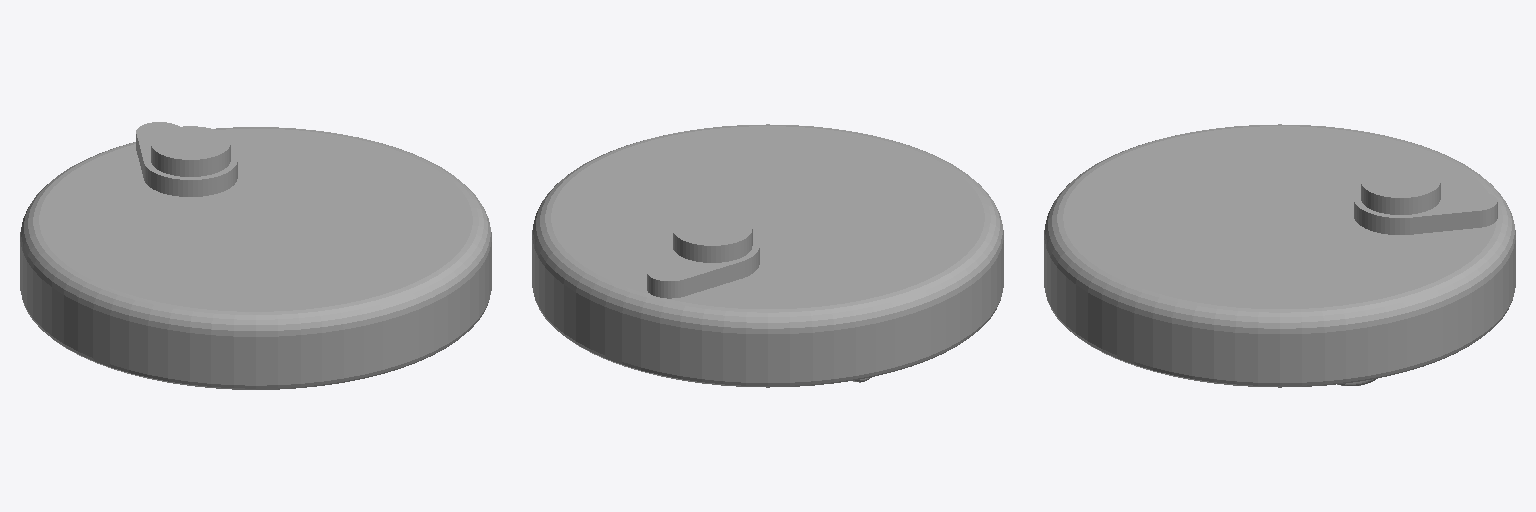
The robot description file, URDF, robot "BadBot":
<?xml version="1.0" ?>
<!-- =================================================================================== -->
<!-- |    This document was autogenerated by xacro from BadBot.xacro                   | -->
<!-- |    EDITING THIS FILE BY HAND IS NOT RECOMMENDED                                 | -->
<!-- =================================================================================== -->
<robot name="BadBot">
  <material name="silver">
    <color rgba="0.700 0.700 0.700 1.000"/>
  </material>
  <transmission name="Rev7_tran">
    <type>transmission_interface/SimpleTransmission</type>
    <joint name="Rev7">
      <hardwareInterface>hardware_interface/EffortJointInterface</hardwareInterface>
    </joint>
    <actuator name="Rev7_actr">
      <hardwareInterface>hardware_interface/EffortJointInterface</hardwareInterface>
      <mechanicalReduction>1</mechanicalReduction>
    </actuator>
  </transmission>
  <transmission name="Rev8_tran">
    <type>transmission_interface/SimpleTransmission</type>
    <joint name="Rev8">
      <hardwareInterface>hardware_interface/EffortJointInterface</hardwareInterface>
    </joint>
    <actuator name="Rev8_actr">
      <hardwareInterface>hardware_interface/EffortJointInterface</hardwareInterface>
      <mechanicalReduction>1</mechanicalReduction>
    </actuator>
  </transmission>
  <transmission name="Rev10_tran">
    <type>transmission_interface/SimpleTransmission</type>
    <joint name="Rev10">
      <hardwareInterface>hardware_interface/EffortJointInterface</hardwareInterface>
    </joint>
    <actuator name="Rev10_actr">
      <hardwareInterface>hardware_interface/EffortJointInterface</hardwareInterface>
      <mechanicalReduction>1</mechanicalReduction>
    </actuator>
  </transmission>
  <gazebo reference="base_link">
    <material>Gazebo/Blue</material>
  </gazebo>
  <gazebo reference="caster_wheel_1">
    <material>Gazebo/Grey</material>
  </gazebo>
  <gazebo reference="right_wheel_1">
    <material>Gazebo/Black</material>
  </gazebo>
  <gazebo reference="right_shaft_1">
    <material>Gazebo/Grey</material>
  </gazebo>
  <gazebo reference="left_wheel_1">
    <material>Gazebo/Black</material>
  </gazebo>
  <gazebo reference="left_shaft_1">
    <material>Gazebo/Grey</material>
  </gazebo>
  <gazebo reference="lidar_1">
    <material>Gazebo/Red</material>
  </gazebo>
  <gazebo>
    <plugin filename="libgazebo_ros_control.so" name="control"/>
  </gazebo>
  <gazebo>
  <plugin name="wheel_drive_controller" filename="libgazebo_ros_diff_drive.so">

  <!-- wheels -->
  <num_wheel_pairs>1</num_wheel_pairs>
  <left_joint>Rev10</left_joint>
  <right_joint>Rev8</right_joint>

  <!-- kinematics -->
  <wheel_separation>0.4</wheel_separation>
  <wheel_diameter>0.1</wheel_diameter>
  <max_wheel_torque>20.0</max_wheel_torque>
  <max_wheel_acceleration>10.0</max_wheel_acceleration>

  <!-- odometry  --> 
  <odometry_source>1</odometry_source>
  <odometry_frame>odom</odometry_frame>
  <robot_base_frame>base_link</robot_base_frame>

  <!-- topic & re remappings 
  <ros>
    <namespace>/</namespace>
    <argument>/cmd_vel:=cmd_vel</argument>
    <argument>/odom:=odom</argument>
  </ros> -->

  <publish_odom>true</publish_odom>
  <publish_odom_tf>true</publish_odom_tf>
  <update_rate>100.0</update_rate>
  </plugin>
  </gazebo>
  <gazebo reference="lidar_1">
    <sensor type="ray" name="ydlidar">
      <pose>0 0 0 0 0 0</pose>
      <visualize>true</visualize>
      <update_rate>10</update_rate>
      <ray>
        <scan>
          <horizontal>
            <samples>720</samples>
            <resolution>1</resolution>
            <min_angle>-3.14159</min_angle>
            <max_angle>3.14159</max_angle>
          </horizontal>
        </scan>
        <range>
          <min>0.55</min>
          <max>8.0</max>
          <resolution>0.01</resolution>
        </range>
        <noise>
          <type>gaussian</type>
          <!-- Noise parameters based on published spec for Hokuyo laser
               achieving "+-30mm" accuracy at range < 10m.  A mean of 0.0m and
               stddev of 0.01m will put 99.7% of samples within 0.03m of the true
               reading. -->
          <mean>0.0</mean>
          <stddev>0.01</stddev>
        </noise>
      </ray>
      <plugin name="gazebo_ros_head_hokuyo_controller" filename="libgazebo_ros_laser.so">
        <topicName>/scan</topicName>
        <frameName>lidar_1</frameName>
      </plugin>
    </sensor>
  </gazebo>
  <gazebo reference="base_link">
    <mu1>0.2</mu1>
    <mu2>0.2</mu2>
    <self_collide>true</self_collide>
    <gravity>true</gravity>
  </gazebo>
  <gazebo reference="caster_wheel_1">
    <mu1>0.1</mu1>
    <mu2>0.1</mu2>
    <self_collide>true</self_collide>
  </gazebo>
  <gazebo reference="right_wheel_1">
    <mu1>1500</mu1>
    <mu2>1500</mu2>
    <self_collide>true</self_collide>
  </gazebo>
  <gazebo reference="right_shaft_1">
    <mu1>0.2</mu1>
    <mu2>0.2</mu2>
    <self_collide>true</self_collide>
  </gazebo>
  <gazebo reference="left_wheel_1">
    <mu1>1500</mu1>
    <mu2>1500</mu2>
    <self_collide>true</self_collide>
  </gazebo>
  <gazebo reference="left_shaft_1">
    <mu1>0.2</mu1>
    <mu2>0.2</mu2>
    <self_collide>true</self_collide>
  </gazebo>
  <gazebo reference="lidar_1">
    <mu1>0.2</mu1>
    <mu2>0.2</mu2>
    <self_collide>true</self_collide>
  </gazebo>
  <link name="base_link">
    <inertial>
      <origin rpy="0 0 0" xyz="-0.010480569242162507 0.14698117892049636 0.15180949497197077"/>
      <mass value="28.855052709016757"/>
      <inertia ixx="0.480495" ixy="-0.0" ixz="0.0" iyy="0.451805" iyz="-0.001119" izz="0.897614"/>
    </inertial>
    <visual>
      <origin rpy="0 0 0" xyz="0 0 0"/>
      <geometry>
        <mesh filename="package://BadBot_description/meshes/base_link.stl" scale="0.001 0.001 0.001"/>
      </geometry>
      <material name="silver"/>
    </visual>
    <collision>
      <origin rpy="0 0 0" xyz="0 0 0"/>
      <geometry>
        <mesh filename="package://BadBot_description/meshes/base_link.stl" scale="0.001 0.001 0.001"/>
      </geometry>
    </collision>
  </link>
  <link name="caster_wheel_1">
    <inertial>
      <origin rpy="0 0 0" xyz="4.307578375939425e-07 -4.657508867467186e-08 -1.1440255144601341e-07"/>
      <mass value="1.4008361642356892"/>
      <inertia ixx="0.000686" ixy="-0.0" ixz="-0.0" iyy="0.000686" iyz="0.0" izz="0.000686"/>
    </inertial>
    <visual>
      <origin rpy="0 0 0" xyz="0.010481 -0.035074 -0.108665"/>
      <geometry>
        <mesh filename="package://BadBot_description/meshes/caster_wheel_1.stl" scale="0.001 0.001 0.001"/>
      </geometry>
      <material name="silver"/>
    </visual>
    <collision>
      <origin rpy="0 0 0" xyz="0.010481 -0.035074 -0.108665"/>
      <geometry>
        <mesh filename="package://BadBot_description/meshes/caster_wheel_1.stl" scale="0.001 0.001 0.001"/>
      </geometry>
    </collision>
  </link>
  <link name="right_wheel_1">
    <inertial>
      <origin rpy="0 0 0" xyz="4.3075783662249734e-07 -3.580086045673614e-07 -1.1440259529982288e-07"/>
      <mass value="0.38540002551002456"/>
      <inertia ixx="0.000496" ixy="-0.0" ixz="-0.0" iyy="0.000299" iyz="0.0" izz="0.000299"/>
    </inertial>
    <visual>
      <origin rpy="0 0 0" xyz="-0.139519 -0.226663 -0.123665"/>
      <geometry>
        <mesh filename="package://BadBot_description/meshes/right_wheel_1.stl" scale="0.001 0.001 0.001"/>
      </geometry>
      <material name="silver"/>
    </visual>
    <collision>
      <origin rpy="0 0 0" xyz="-0.139519 -0.226663 -0.123665"/>
      <geometry>
        <mesh filename="package://BadBot_description/meshes/right_wheel_1.stl" scale="0.001 0.001 0.001"/>
      </geometry>
    </collision>
  </link>
  <link name="right_shaft_1">
    <inertial>
      <origin rpy="0 0 0" xyz="-0.04749956924216331 -3.5800860448409466e-07 -1.1440255119621323e-07"/>
      <mass value="0.23876104167282425"/>
      <inertia ixx="1.2e-05" ixy="-0.0" ixz="-0.0" iyy="0.000186" iyz="0.0" izz="0.000186"/>
    </inertial>
    <visual>
      <origin rpy="0 0 0" xyz="-0.187019 -0.226663 -0.123665"/>
      <geometry>
        <mesh filename="package://BadBot_description/meshes/right_shaft_1.stl" scale="0.001 0.001 0.001"/>
      </geometry>
      <material name="silver"/>
    </visual>
    <collision>
      <origin rpy="0 0 0" xyz="-0.187019 -0.226663 -0.123665"/>
      <geometry>
        <mesh filename="package://BadBot_description/meshes/right_shaft_1.stl" scale="0.001 0.001 0.001"/>
      </geometry>
    </collision>
  </link>
  <link name="left_wheel_1">
    <inertial>
      <origin rpy="0 0 0" xyz="4.307578380380317e-07 -3.5800860437307236e-07 -1.1440259496675598e-07"/>
      <mass value="0.38540002551002467"/>
      <inertia ixx="0.000496" ixy="-0.0" ixz="-0.0" iyy="0.000299" iyz="0.0" izz="0.000299"/>
    </inertial>
    <visual>
      <origin rpy="0 0 0" xyz="0.160481 -0.226663 -0.123665"/>
      <geometry>
        <mesh filename="package://BadBot_description/meshes/left_wheel_1.stl" scale="0.001 0.001 0.001"/>
      </geometry>
      <material name="silver"/>
    </visual>
    <collision>
      <origin rpy="0 0 0" xyz="0.160481 -0.226663 -0.123665"/>
      <geometry>
        <mesh filename="package://BadBot_description/meshes/left_wheel_1.stl" scale="0.001 0.001 0.001"/>
      </geometry>
    </collision>
  </link>
  <link name="left_shaft_1">
    <inertial>
      <origin rpy="0 0 0" xyz="-0.04749956924216181 -3.5800860459511696e-07 -1.1440255101580199e-07"/>
      <mass value="0.23876104167282444"/>
      <inertia ixx="1.2e-05" ixy="-0.0" ixz="-0.0" iyy="0.000186" iyz="0.0" izz="0.000186"/>
    </inertial>
    <visual>
      <origin rpy="0 0 0" xyz="0.112981 -0.226663 -0.123665"/>
      <geometry>
        <mesh filename="package://BadBot_description/meshes/left_shaft_1.stl" scale="0.001 0.001 0.001"/>
      </geometry>
      <material name="silver"/>
    </visual>
    <collision>
      <origin rpy="0 0 0" xyz="0.112981 -0.226663 -0.123665"/>
      <geometry>
        <mesh filename="package://BadBot_description/meshes/left_shaft_1.stl" scale="0.001 0.001 0.001"/>
      </geometry>
    </collision>
  </link>
  <link name="lidar_1">
    <inertial>
      <origin rpy="0 0 0" xyz="-0.010656431259226684 0.13581878088609403 0.001968639103403391"/>
      <mass value="0.3543299620873657"/>
      <inertia ixx="0.000474" ixy="-2.3e-05" ixz="3e-06" iyy="0.000229" iyz="3.1e-05" izz="0.000616"/>
    </inertial>
    <visual>
      <origin rpy="0 0 0" xyz="0.00469 -0.156934 -0.208463"/>
      <geometry>
        <mesh filename="package://BadBot_description/meshes/lidar_1.stl" scale="0.001 0.001 0.001"/>
      </geometry>
      <material name="silver"/>
    </visual>
    <collision>
      <origin rpy="0 0 0" xyz="0.00469 -0.156934 -0.208463"/>
      <geometry>
        <mesh filename="package://BadBot_description/meshes/lidar_1.stl" scale="0.001 0.001 0.001"/>
      </geometry>
    </collision>
  </link>
  <joint name="Rev7" type="continuous">
    <origin rpy="0 0 0" xyz="-0.010481 0.035074 0.108665"/>
    <parent link="base_link"/>
    <child link="caster_wheel_1"/>
    <axis xyz="-0.0 -0.0 -1.0"/>
  </joint>
  <joint name="Rev8" type="continuous">
    <origin rpy="0 0 0" xyz="-0.0475 0.0 0.0"/>
    <parent link="right_shaft_1"/>
    <child link="right_wheel_1"/>
    <axis xyz="-1.0 0.0 0.0"/>
  </joint>
  <joint name="Rigid9" type="fixed">
    <origin rpy="0 0 0" xyz="0.187019 0.226663 0.123665"/>
    <parent link="base_link"/>
    <child link="right_shaft_1"/>
  </joint>
  <joint name="Rev10" type="continuous">
    <origin rpy="0 0 0" xyz="-0.0475 0.0 0.0"/>
    <parent link="left_shaft_1"/>
    <child link="left_wheel_1"/>
    <axis xyz="-1.0 0.0 0.0"/>
  </joint>
  <joint name="Rigid11" type="fixed">
    <origin rpy="0 0 0" xyz="-0.112981 0.226663 0.123665"/>
    <parent link="base_link"/>
    <child link="left_shaft_1"/>
  </joint>
  <joint name="Rigid12" type="fixed">
    <origin rpy="0 0 0" xyz="-0.00469 0.156934 0.208463"/>
    <parent link="base_link"/>
    <child link="lidar_1"/>
  </joint>
</robot>

--- What the picture shows (computed from the rendered views, not written in the file) ---
The picture shows the robot from 3 angles, left to right: view 1: azimuth 30°, elevation 25°; view 2: azimuth 150°, elevation 25°; view 3: azimuth 270°, elevation 25°; orthographic projection.
Model BadBot with 7 links and 6 joints (3 continuous, 3 fixed), rooted at base_link, posed all joints at 0.
Links seen in each view (by area): view 1: base_link, lidar_1; view 2: base_link, lidar_1; view 3: base_link, lidar_1.
Boxes of the visible links, x1=… form: base_link: x1=20, y1=127, x2=491, y2=389; lidar_1: x1=136, y1=122, x2=237, y2=196; base_link: x1=532, y1=124, x2=1003, y2=387; lidar_1: x1=647, y1=212, x2=759, y2=298; base_link: x1=1044, y1=124, x2=1515, y2=387; lidar_1: x1=1354, y1=164, x2=1497, y2=234.
Size in the robot's own frame: 0.5 by 0.4994 by 0.16 metres.
Meshes: 7 distinct files referenced, 7 mesh visuals loaded (7 binary STL).
